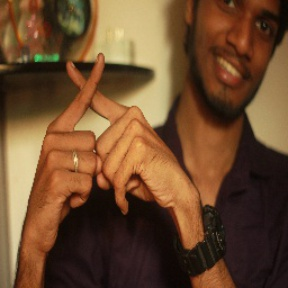X: (41, 43, 144, 174)
